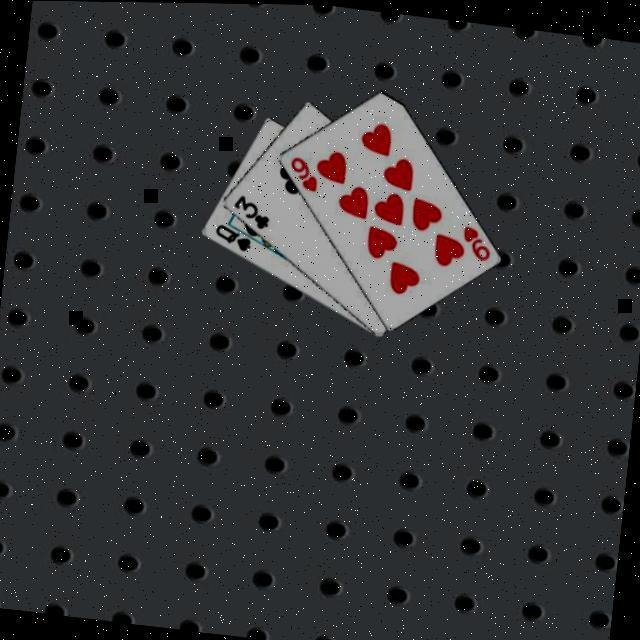3C: (227, 191, 273, 232)
9H: (283, 153, 321, 194), (456, 222, 494, 262)
QS: (209, 220, 254, 255)
